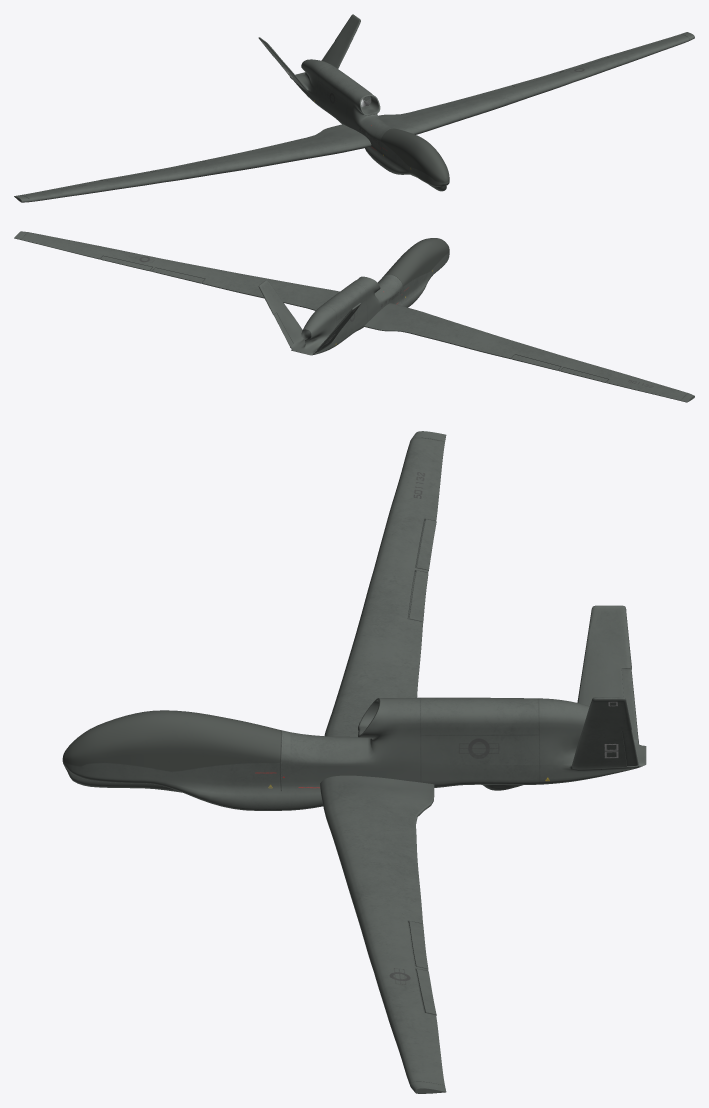
File: rq-4-global-hawk.glb
The picture shows the model from 3 angles, top to bottom: view 1: azimuth 30°, elevation 25°; view 2: azimuth 150°, elevation 25°; view 3: azimuth 270°, elevation 25°; orthographic projection. The views are drawn at different scales.
Parts seen in each view (by area): view 1: main_wing, body; view 2: main_wing, body; view 3: body, main_wing.
Part boxes in pixels (x1,y1,x2,y2): main_wing: (14, 32, 694, 202); body: (258, 14, 449, 191); main_wing: (14, 231, 694, 402); body: (258, 238, 449, 355); body: (62, 605, 646, 810); main_wing: (320, 431, 446, 1093).
Size of the model in its own units: 0.4692 by 0.05 by 0.1761.
Materials: 1 (1 with a texture image).
